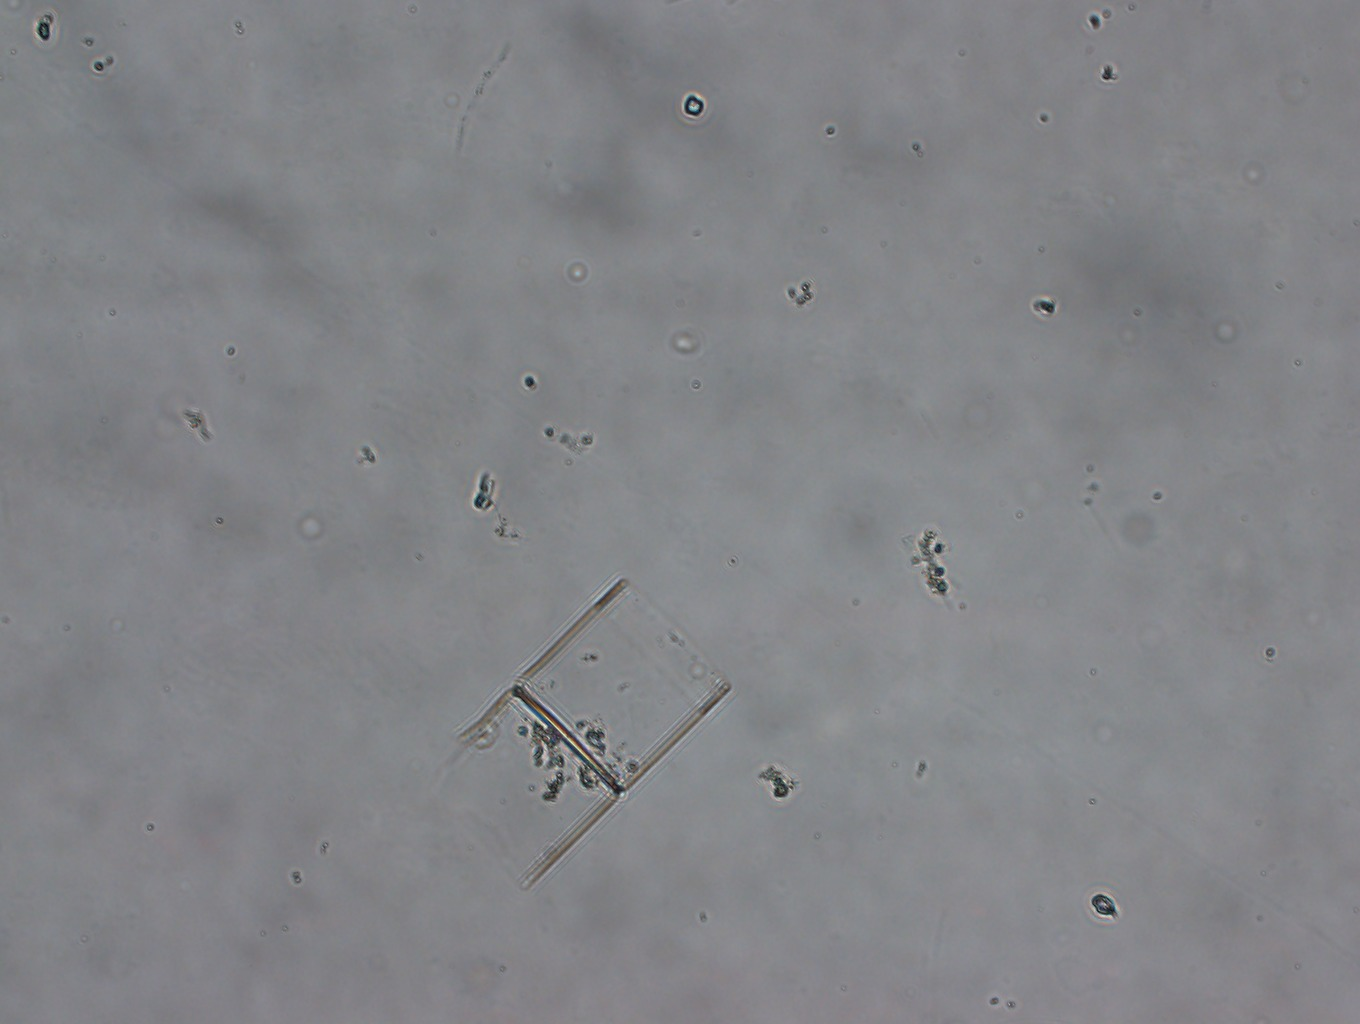guinardia flaccida: (453, 577, 730, 888)
